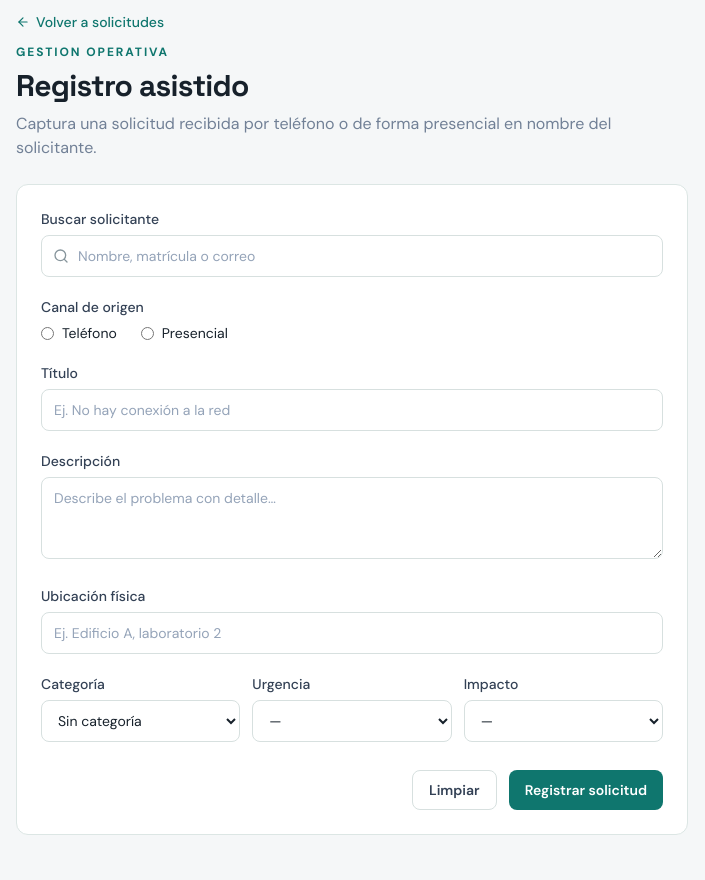
it: RegistroAsistidoPage: registro asistido (S3-09, HU-01.3) › avisa cuando no hay ningún solicitante con ese dato
Type "zzz" into the field labelled "Buscar solicitante" at [352, 256], box [41,235,663,277]
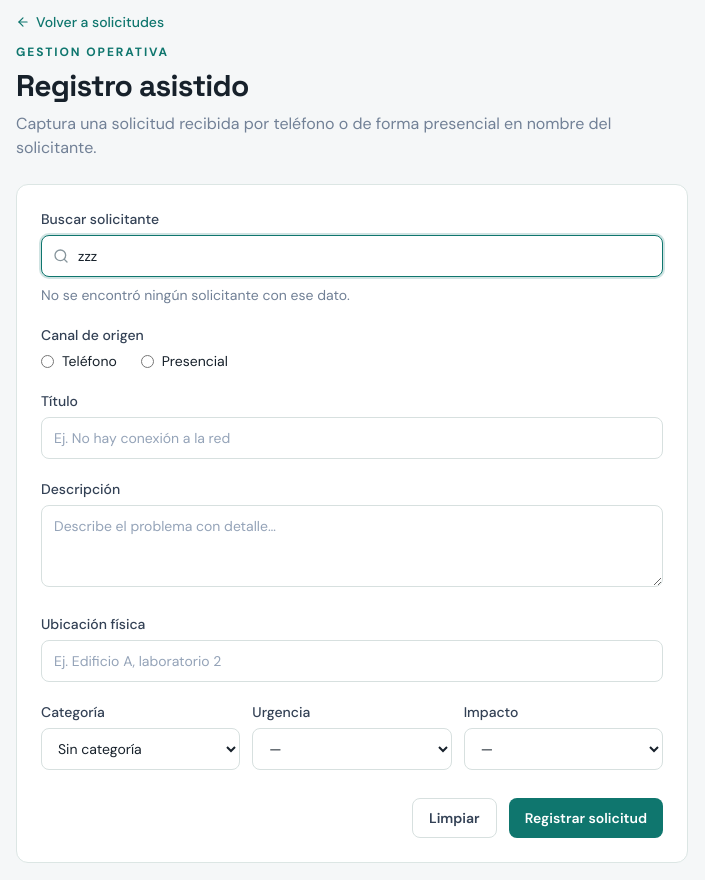
Result: the text "No se encontró ningún solicitante con ese dato." is shown at [41,286,350,304]
